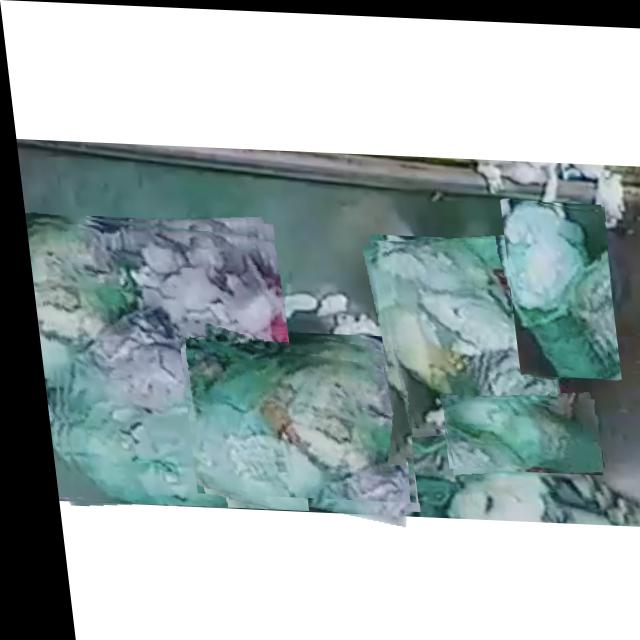general_trashbag: (372, 240, 551, 428), (181, 353, 402, 496), (501, 197, 604, 374), (435, 395, 592, 467)
other_trashbag: (52, 226, 288, 505)
